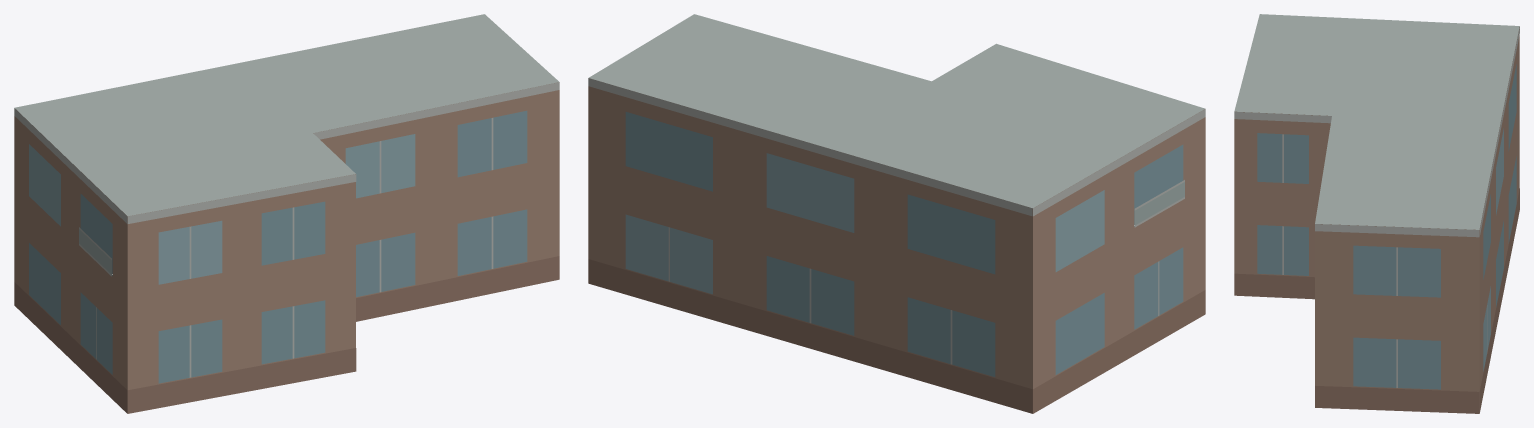
Rendered from survey-upis-32789913.glb.
3 renders of one model, left to right at view 1: azimuth 30°, elevation 25°; view 2: azimuth 150°, elevation 25°; view 3: azimuth 270°, elevation 25°, orthographic. The views are drawn at different scales.
Parts seen in each view (by area): view 1: survey-upis-32789913.tmp; view 2: survey-upis-32789913.tmp; view 3: survey-upis-32789913.tmp.
Part boxes in pixels (x1,y1,x2,y2): survey-upis-32789913.tmp: [14, 14, 559, 413]; survey-upis-32789913.tmp: [588, 14, 1205, 413]; survey-upis-32789913.tmp: [1234, 14, 1519, 413].
Bounding box in the file's own units: 15.37 × 6.1 × 8.59.
